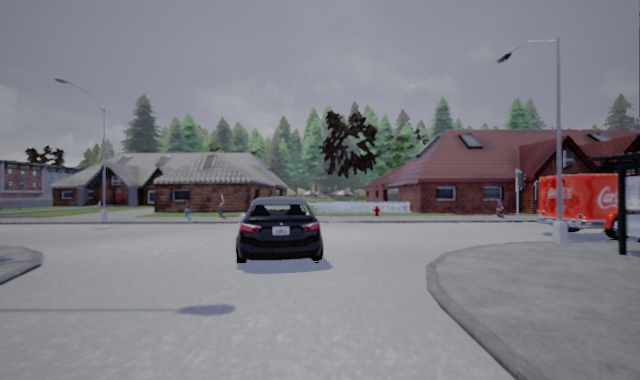pedestrian: (214, 189, 228, 221), (494, 197, 507, 220), (182, 199, 193, 220)
vehicle: (534, 172, 639, 242), (234, 197, 323, 266)
